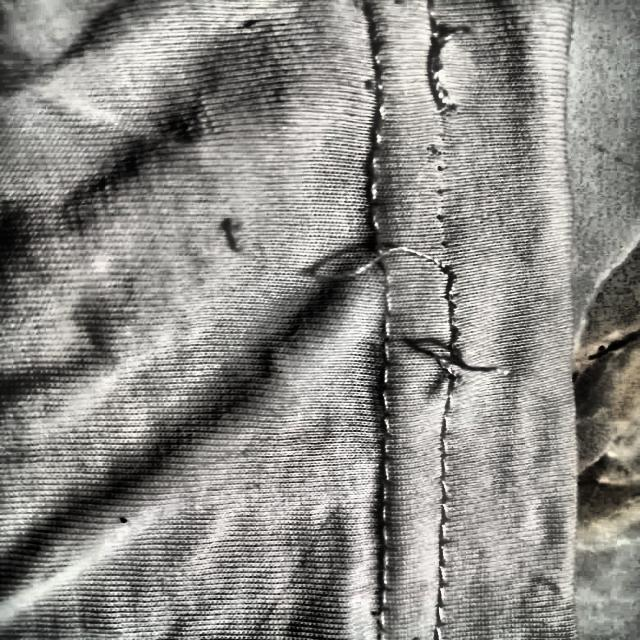Stitch: (311, 242, 452, 284), (408, 332, 492, 378), (431, 25, 463, 114)
